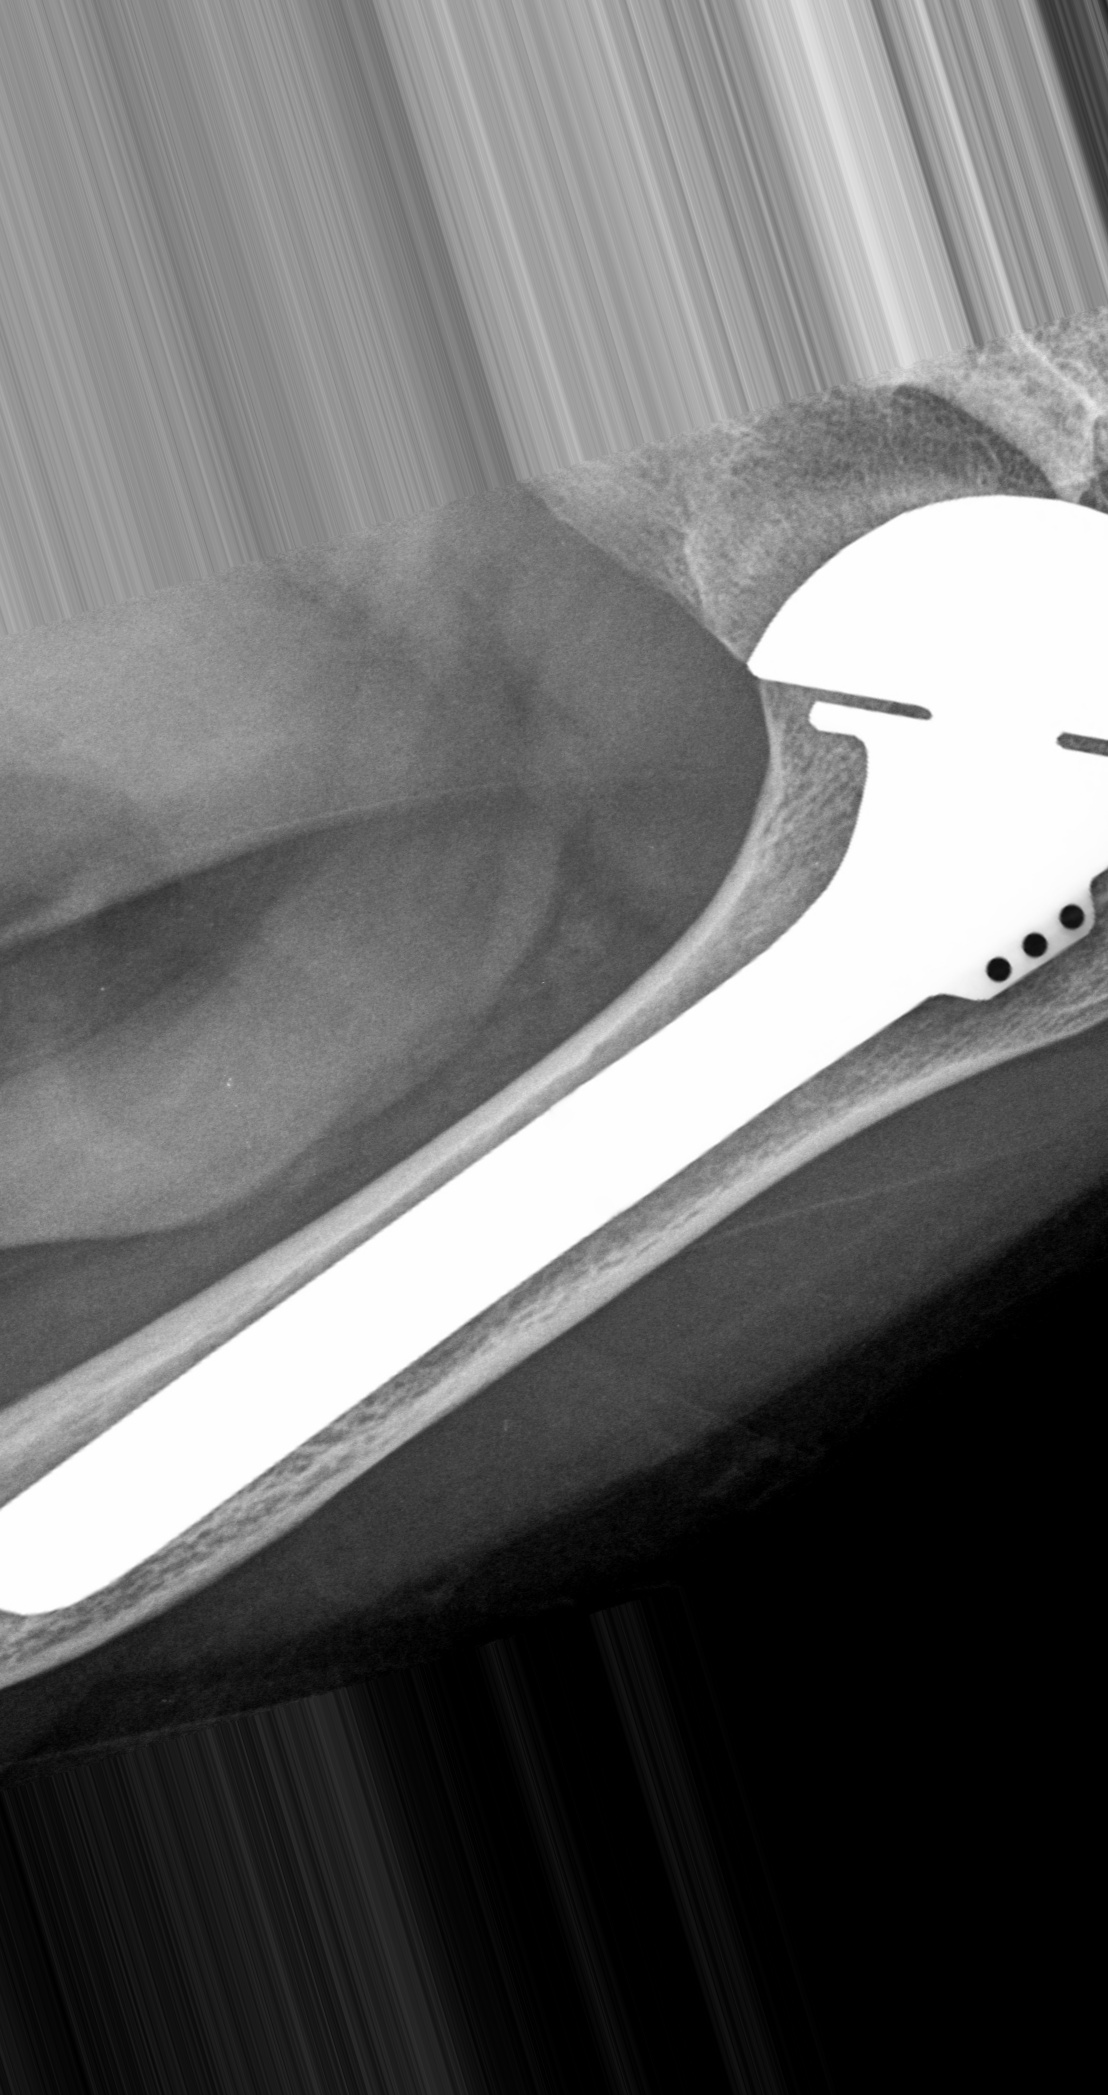Shoulder - Olympia - Wright: (717, 459, 1108, 1021)
